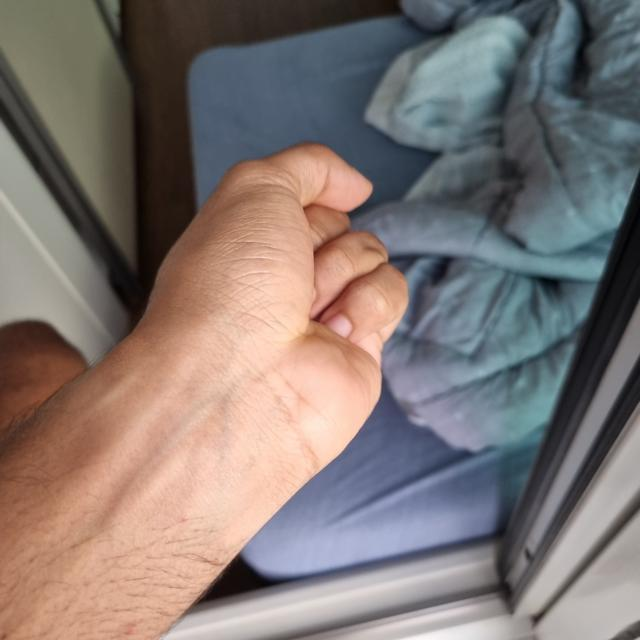Rock: (133, 146, 405, 480)
